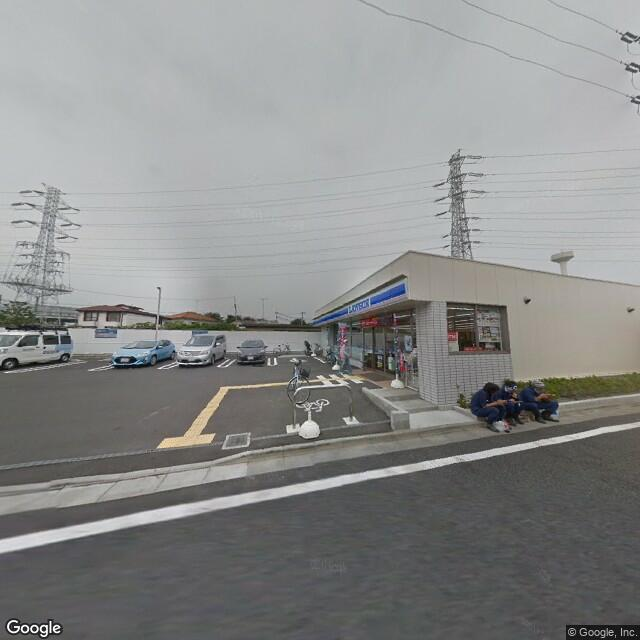lawson: (313, 274, 410, 333)
